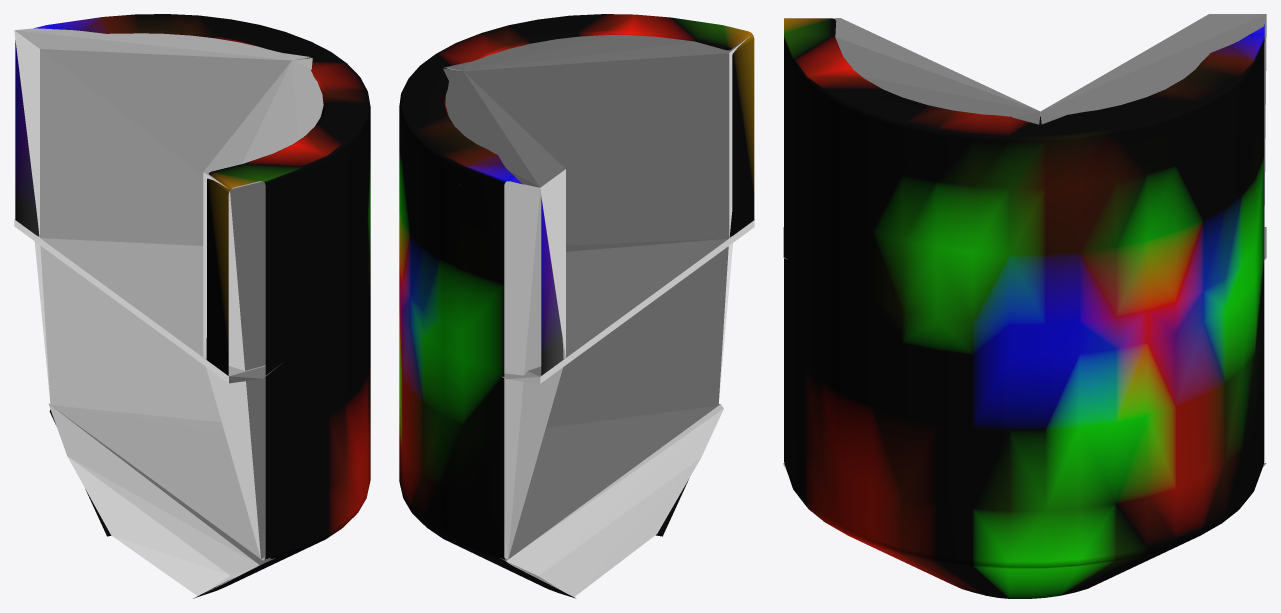
The picture shows the model from 3 angles, left to right: view 1: azimuth 30°, elevation 25°; view 2: azimuth 150°, elevation 25°; view 3: azimuth 270°, elevation 25°; orthographic projection. The views are drawn at different scales.
Parts seen in each view (by area): view 1: SM_Platform_Overhang_Cylinder_01_ConvexHulls, SM_Platform_Overhang_Cylinder_01_LOD0; view 2: SM_Platform_Overhang_Cylinder_01_ConvexHulls, SM_Platform_Overhang_Cylinder_01_LOD0; view 3: SM_Platform_Overhang_Cylinder_01_LOD0, SM_Platform_Overhang_Cylinder_01_ConvexHulls.
Boxes of the visible parts, x1=… form: SM_Platform_Overhang_Cylinder_01_ConvexHulls: x1=14, y1=28, x2=323, y2=595; SM_Platform_Overhang_Cylinder_01_LOD0: x1=15, y1=14, x2=370, y2=598; SM_Platform_Overhang_Cylinder_01_ConvexHulls: x1=443, y1=35, x2=754, y2=596; SM_Platform_Overhang_Cylinder_01_LOD0: x1=399, y1=14, x2=754, y2=598; SM_Platform_Overhang_Cylinder_01_LOD0: x1=784, y1=18, x2=1264, y2=598; SM_Platform_Overhang_Cylinder_01_ConvexHulls: x1=783, y1=14, x2=1266, y2=470.
Size of the model in its own units: 149 by 252 by 301.
